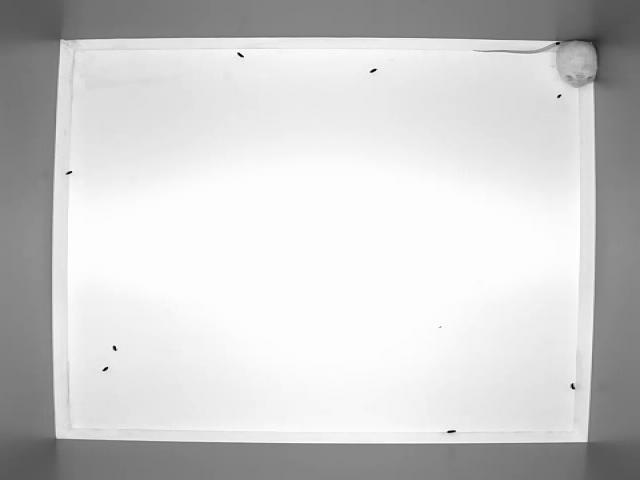Tikus: (473, 37, 608, 93)
